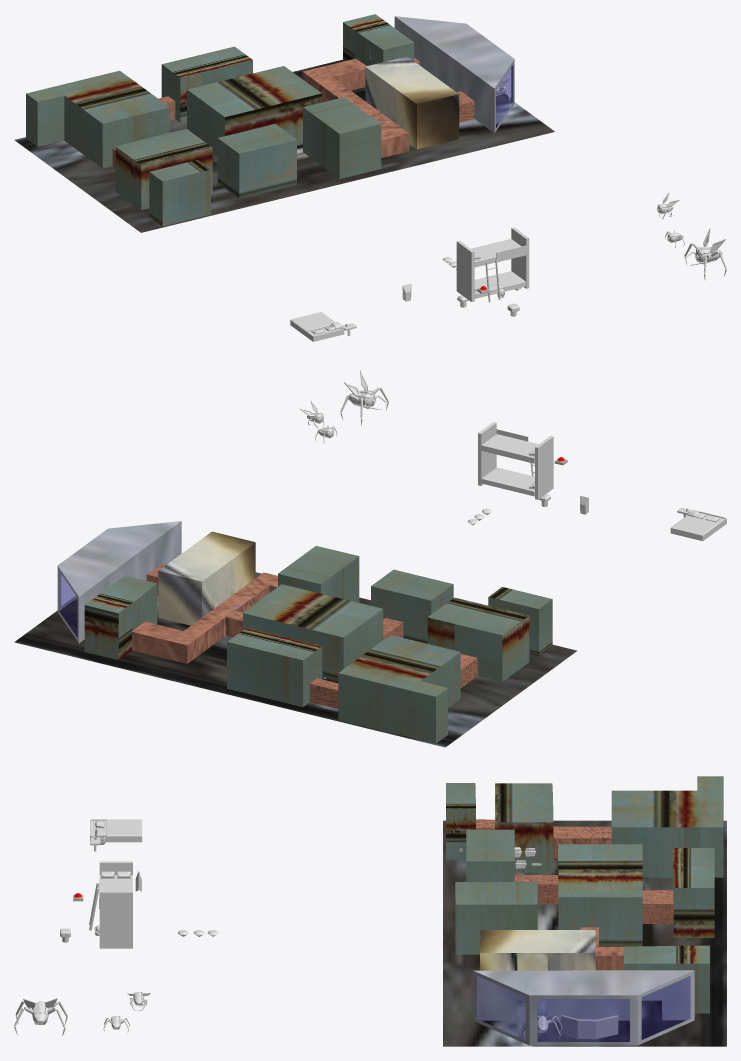
File: spaceunity.fbx
The picture shows the model from 3 angles, top to bottom: view 1: azimuth 30°, elevation 25°; view 2: azimuth 150°, elevation 25°; view 3: azimuth 270°, elevation 25°; orthographic projection. The views are drawn at different scales.
Visible parts, largest first — view 1: floor, L room, main, frontroom.001, captain, small room big hall left, small room up main, room b4 reactor, reactor, small room under main, grote gang, samll room b4 front room (+3 smaller); view 2: floor, L room, main, frontroom.001, captain, room b4 reactor, small room under main, grote gang, samll room b4 front room, small room up main, small room big hall left, reactor (+4 smaller); view 3: floor, frontroom.001, L room, main, captain, small room big hall left, room b4 reactor, window front, small room under main, samll room b4 front room, small room up main, Cube.027 (+11 smaller).
Boxes of the visible parts, x1,y1,x2,y2 form: floor: (14,59,554,232); L room: (26,70,169,168); main: (187,66,321,156); frontroom.001: (394,16,514,133); captain: (365,56,459,149); small room big hall left: (303,97,381,178); small room up main: (217,124,296,198); room b4 reactor: (115,128,212,210); reactor: (149,160,210,226); small room under main: (161,46,252,122); grote gang: (302,58,409,157); samll room b4 front room: (343,14,413,65); floor: (14,572,577,747); L room: (338,635,460,743); main: (243,584,383,682); frontroom.001: (57,521,181,643); captain: (158,531,255,625); room b4 reactor: (427,597,529,681); small room under main: (227,628,322,706); grote gang: (132,572,277,663); samll room b4 front room: (84,575,157,659); small room up main: (371,569,453,643); small room big hall left: (278,546,359,602); reactor: (488,587,552,655); floor: (443,820,726,1046); frontroom.001: (473,970,694,1045); L room: (611,776,723,877); main: (558,844,642,946); captain: (480,930,595,970); small room big hall left: (455,882,537,954); room b4 reactor: (495,783,553,872); window front: (537,999,629,1041); small room under main: (673,848,714,937); samll room b4 front room: (623,945,709,1013); small room up main: (466,829,514,881); Cube.027: (99,861,132,948).
Size of the model in its own units: 9629 by 1339 by 12846.
